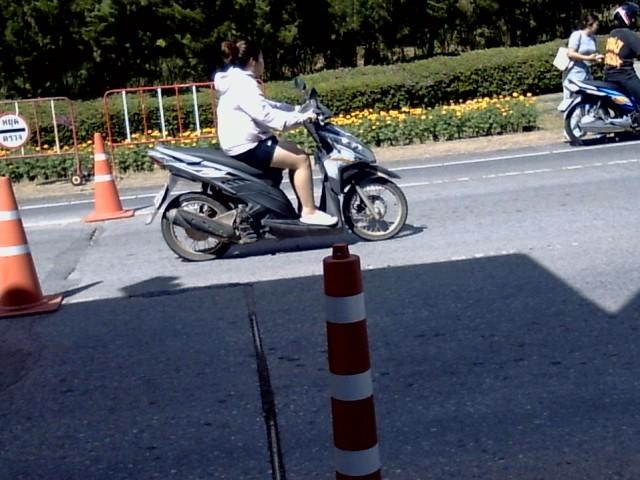motor: (147, 78, 407, 259)
no-helmet: (216, 34, 275, 82)
person: (212, 41, 336, 225)
